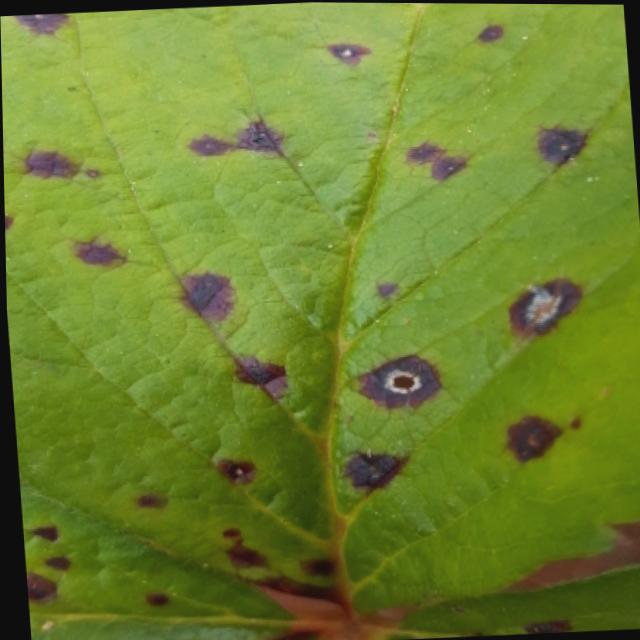Leaf Spot: (0, 2, 640, 610), (17, 484, 321, 640), (369, 558, 640, 640)
